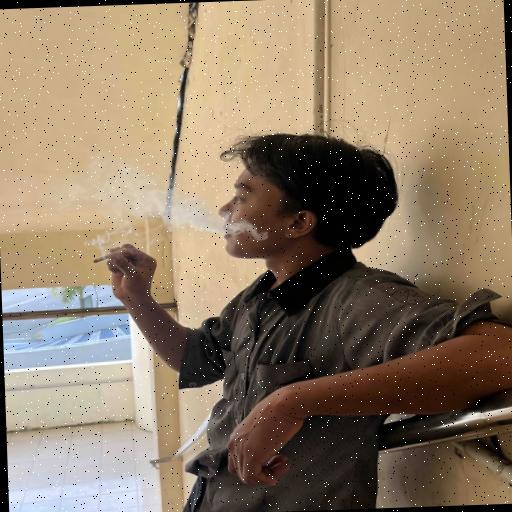asap rokok: (176, 168, 260, 254)
pegang rokok: (75, 220, 160, 310)
